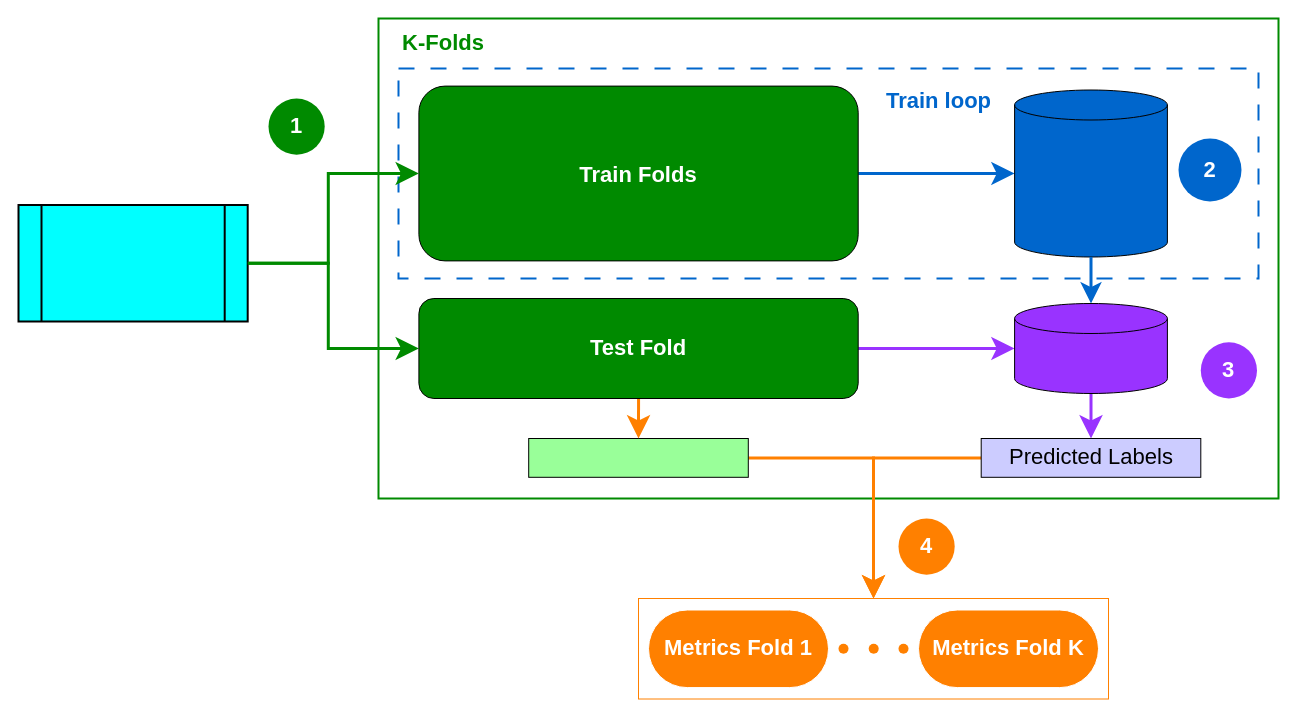
This 1296x716 diagram has some shape labels left out. The box of each missing label's shape, as (x1, y1, x2, y2) in pixels:
Dataset: (17, 204, 248, 322)
Model: (1014, 89, 1167, 257)
Trained Model: (1014, 302, 1167, 394)
True Labels: (528, 438, 748, 477)
